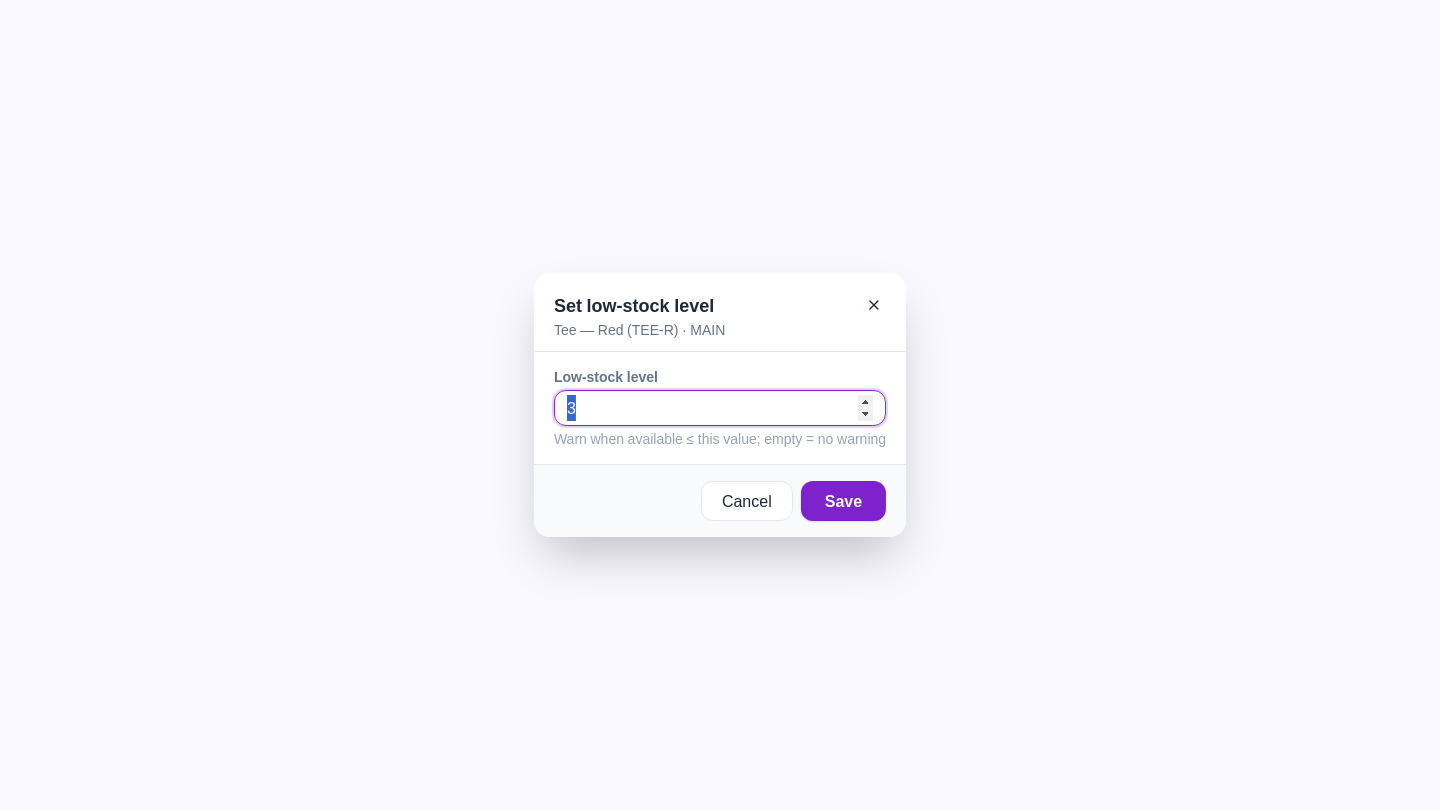
ThresholdDialog › ຄ່າ -2: ສະແດງຂໍ້ຄວາມແປ, aria-invalid, ບໍ່ສົ່ງ; ແກ້ແລ້ວຂໍ້ຄວາມຫາຍ
Replace the text in the number field labelled "Low-stock level" with "-2" at (720, 408), box top-left (554, 390), bottom-right (886, 426)
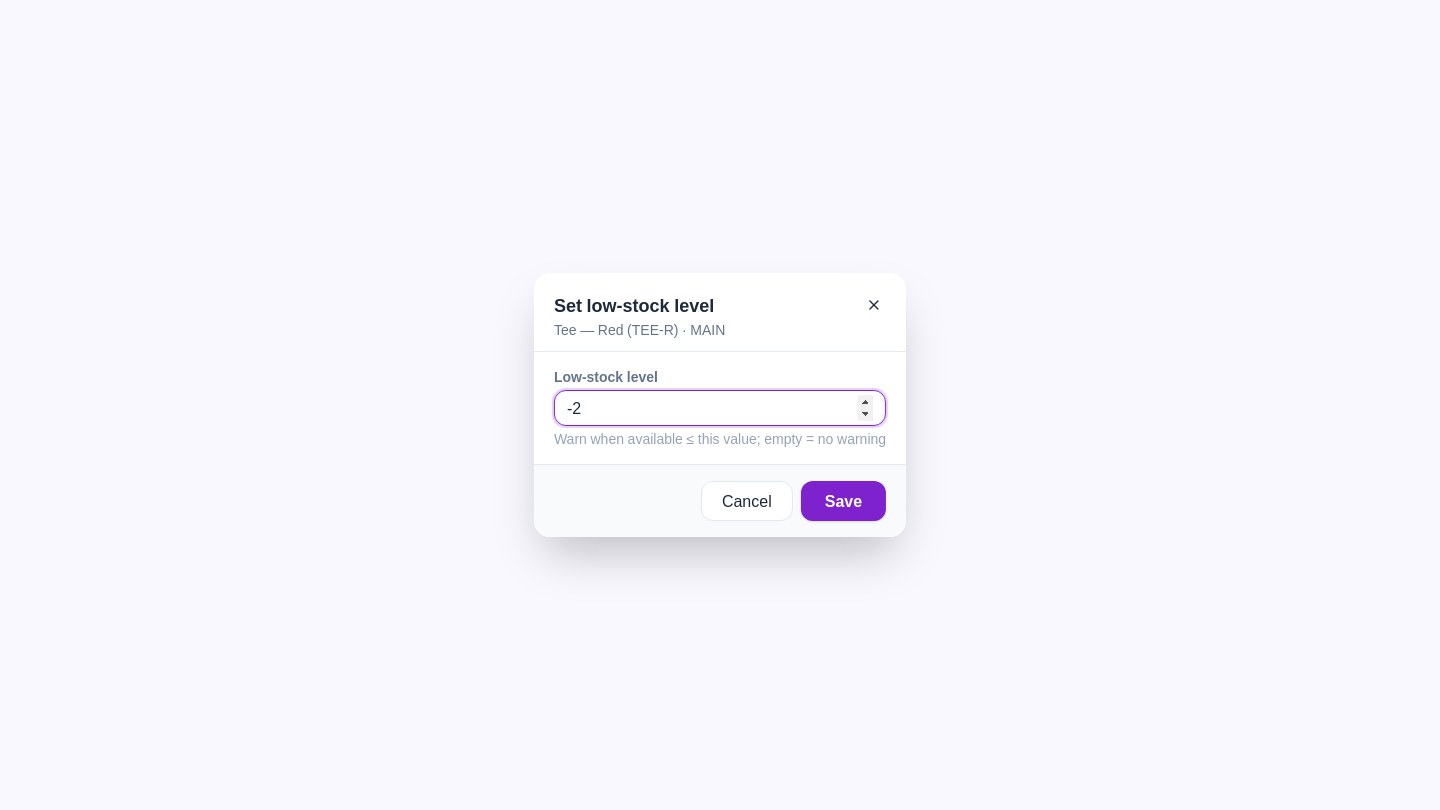
Click the button "Save".
click(843, 501)  # box top-left (801, 481), bottom-right (886, 521)
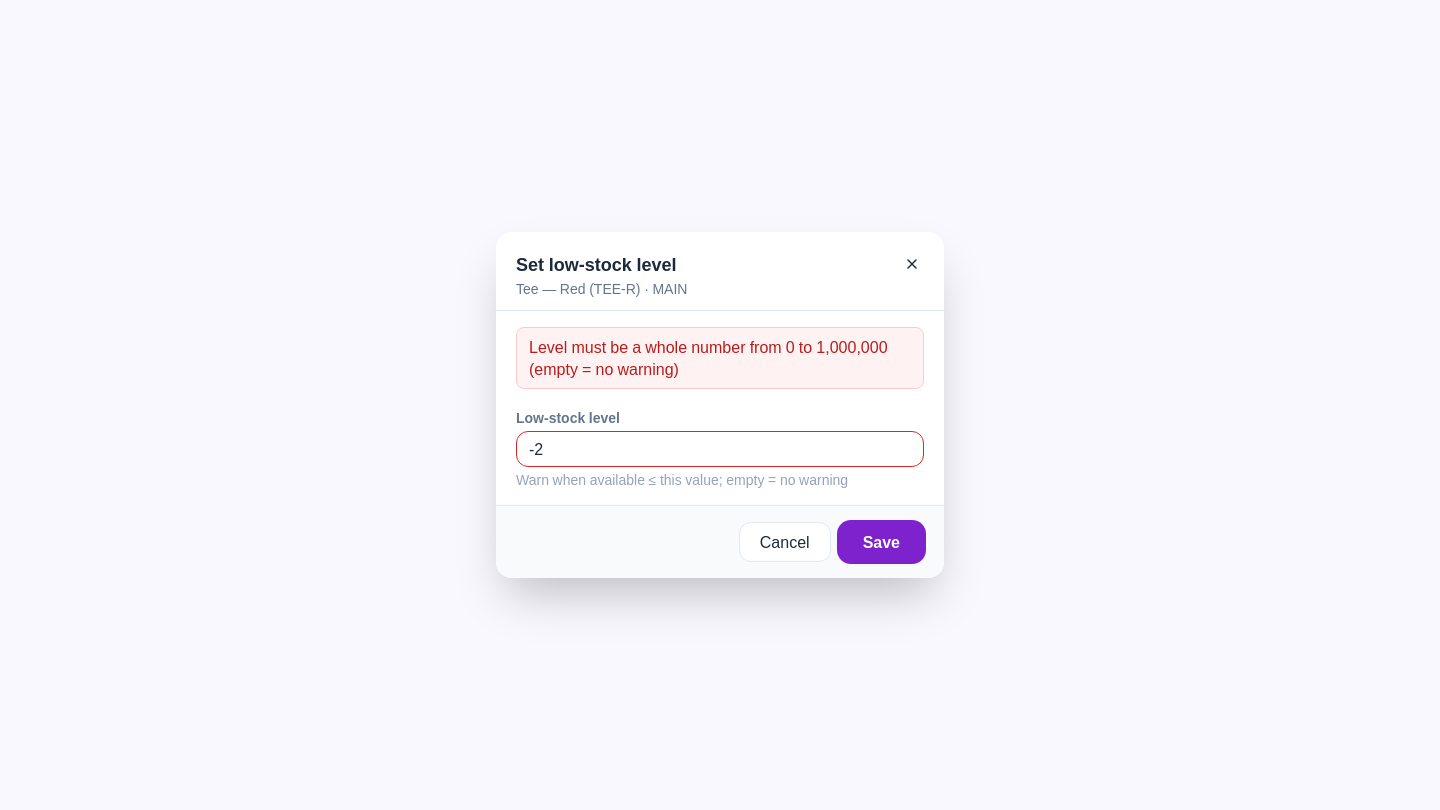
expect the message shows "whole number from 0 to 1,000,000": met, box top-left (529, 334), bottom-right (888, 382)
Type "1" into the number field labelled "Low-stock level".
click(720, 449); type("1")  # box top-left (516, 431), bottom-right (924, 467)
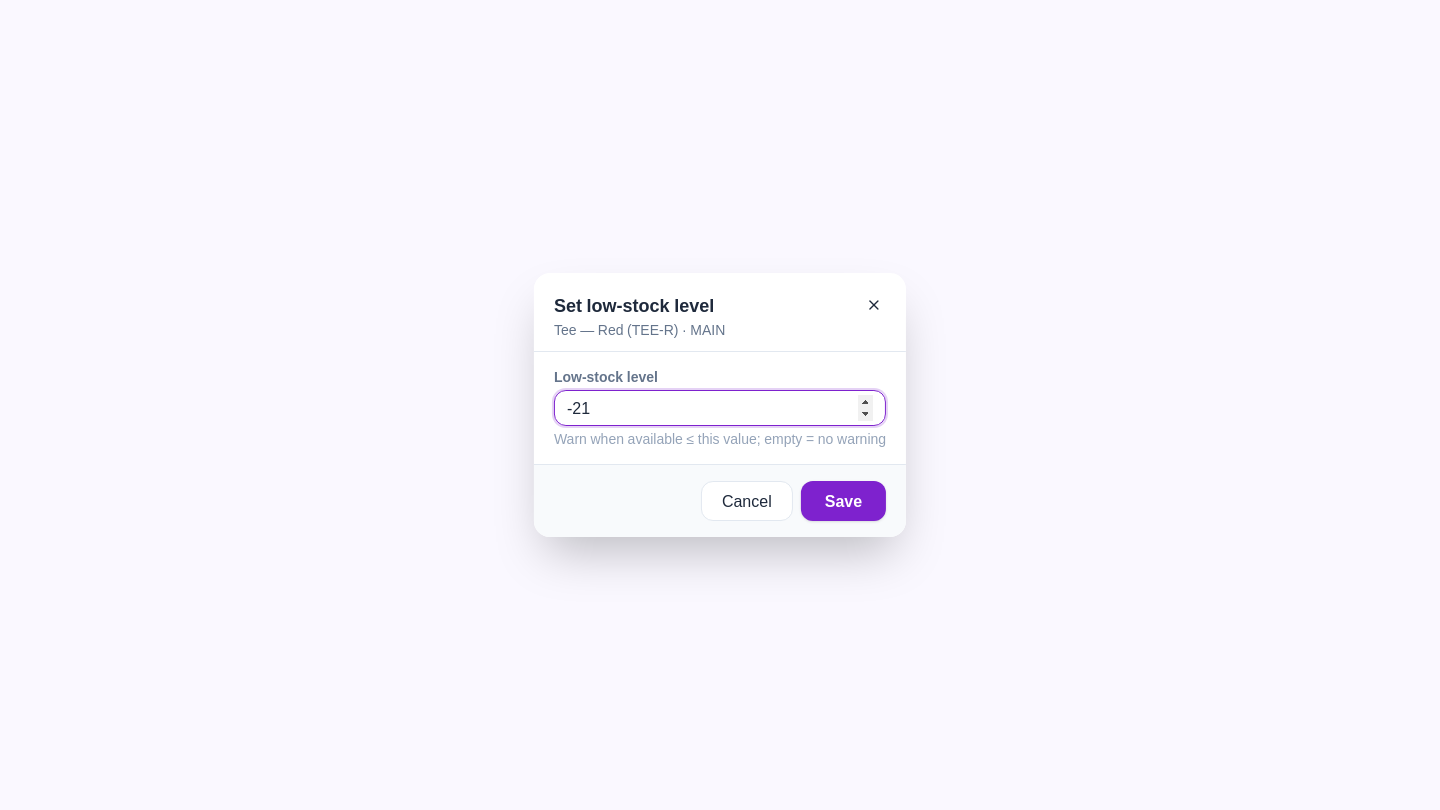
expect the message "Level must be a whole number from 0 to 1,000,000 (empty = no warning)" is gone: met
